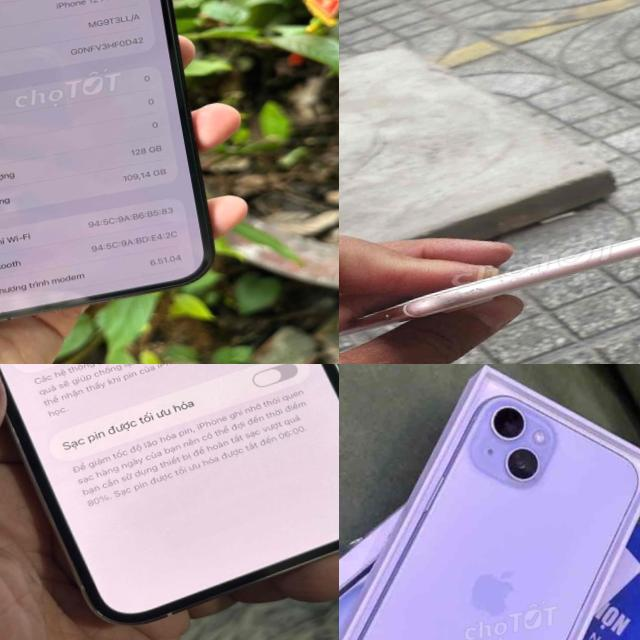gen_12_13: (0, 364, 339, 640), (0, 0, 246, 350)
gen_15: (339, 367, 640, 640)
gen_7_8: (339, 208, 640, 330)
